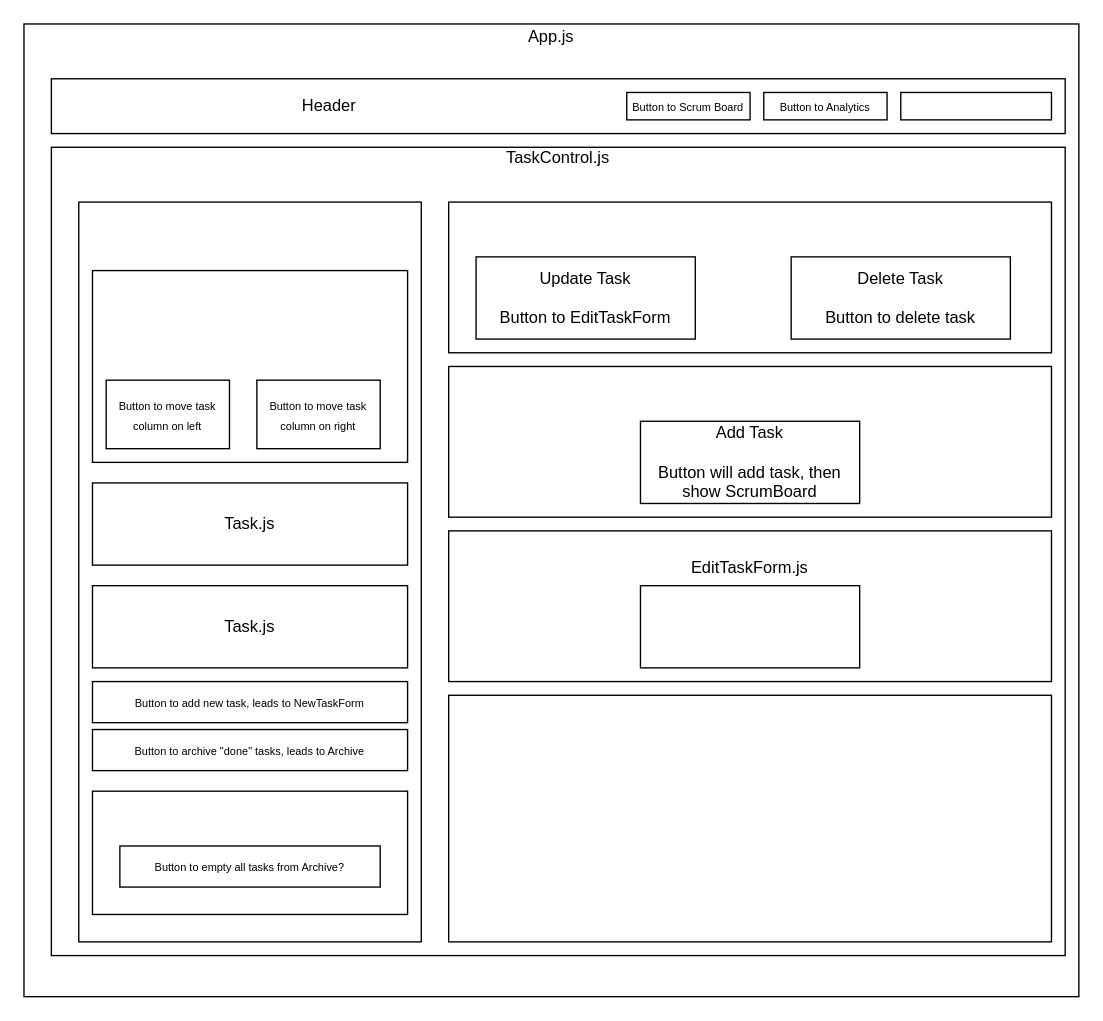
This 1103x1021 diagram has some shape labels left out. The box of each missing label's shape, as (x1, y1, x2, y2) in pixels:
Archive.js: (91, 790, 408, 914)
Buttons for User Sign In/Out: (899, 91, 1051, 120)
DataAnalytics.js TBA other components inside DataAnalytics: (447, 694, 1051, 942)
NewTaskForm.js: (447, 365, 1051, 517)
ScrumBoard.js: (77, 201, 421, 942)
Task.js Click task to show a task's details: (91, 269, 408, 462)
TaskDetail.js: (447, 201, 1051, 353)
Update Task Button will update task, then show ScrumBoard: (639, 584, 860, 668)
